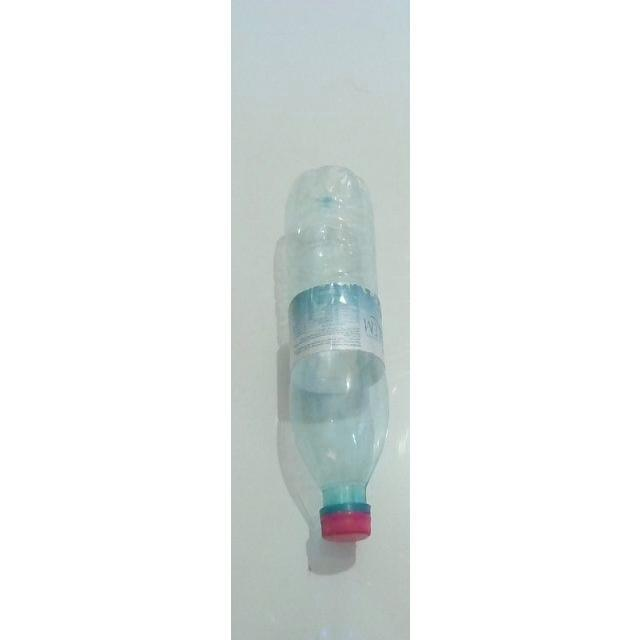bottle: (282, 164, 391, 543)
